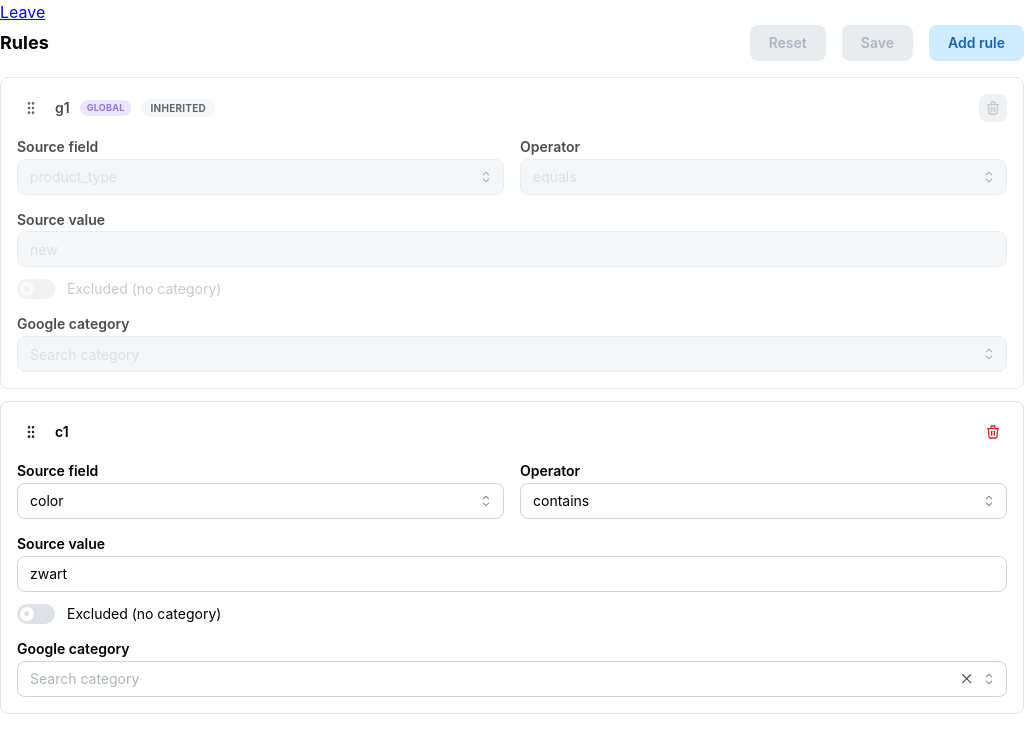
RulesTab › Dirty guard: Cancel keeps the draft and stays on the page
Expected: the text "c1" is shown, [55,422,69,442]
Click the button "Add rule". click: (976, 43)
box: [929,25,1023,61]
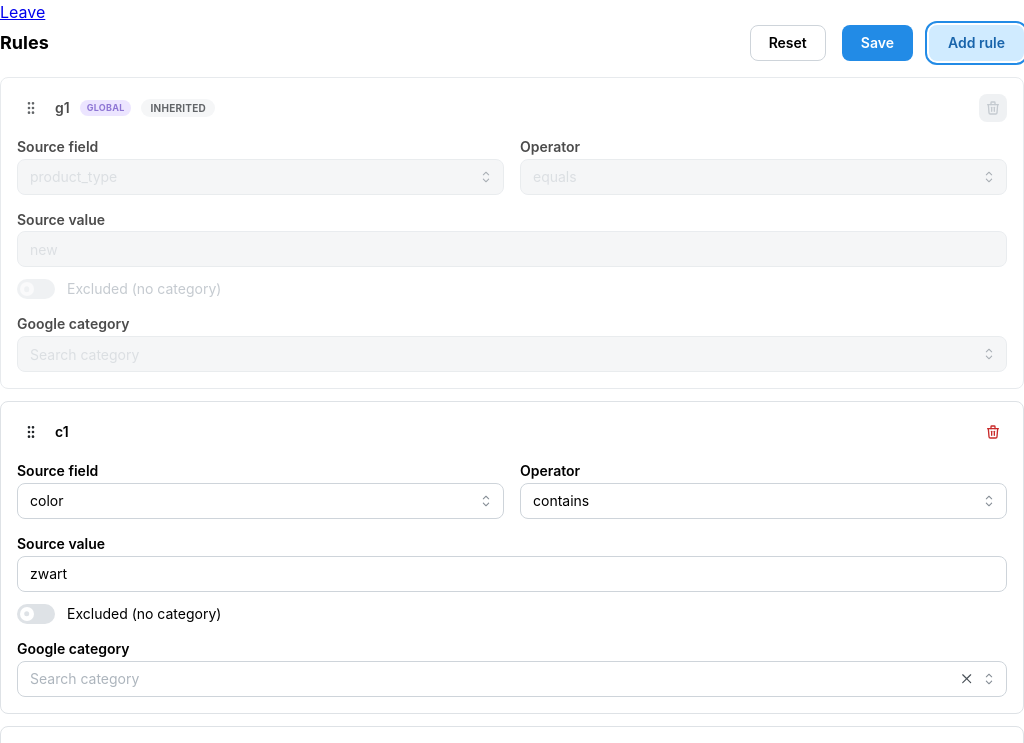
Click the link "Leave". click: (23, 12)
box: [0,2,45,22]
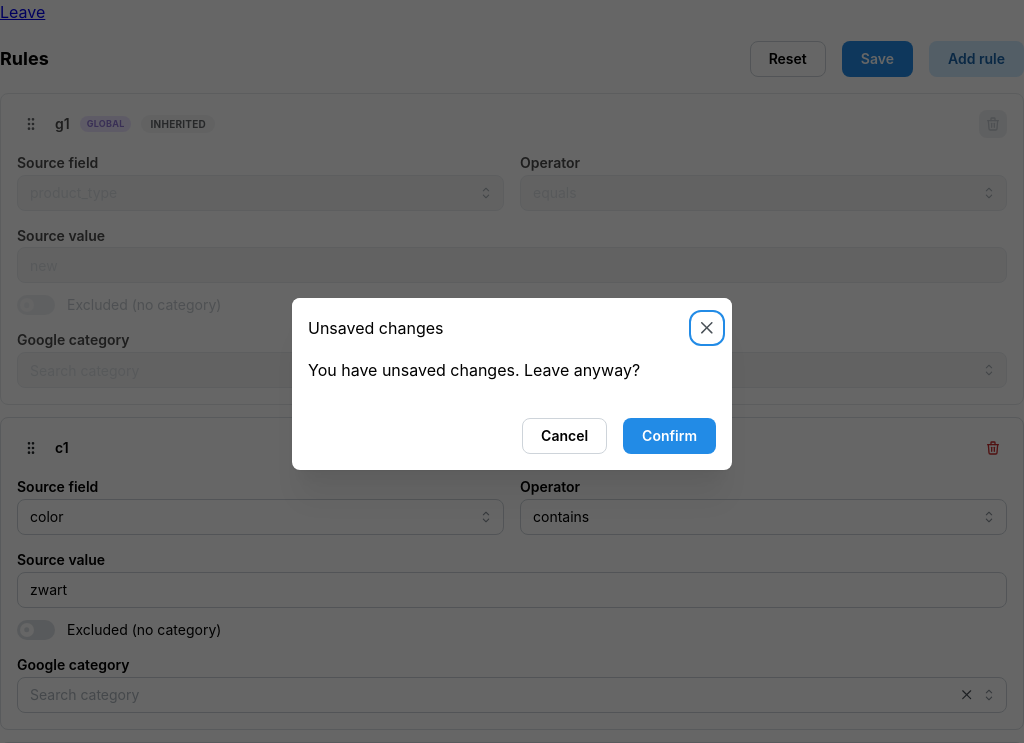
Expected: the heading "Unsaved changes" is shown, [308,320,444,336]
Click the button "Cancel". click: (565, 436)
box: [522,418,607,454]
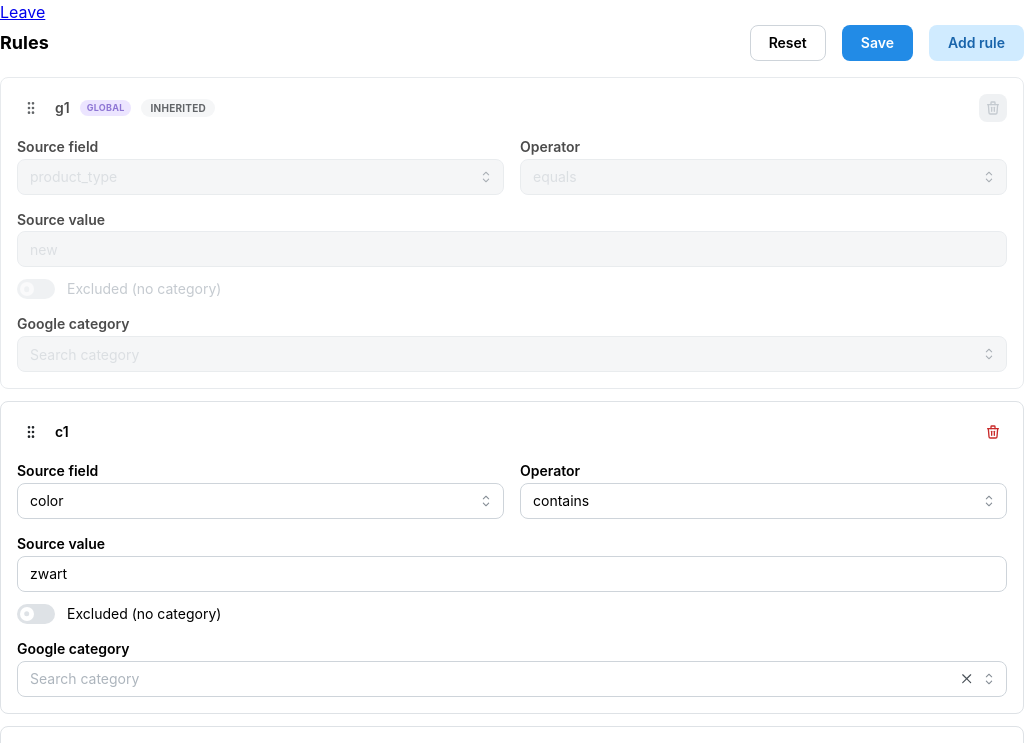
Expected: the text "c1" is shown, [55,422,69,442]
Expected: the button "Save" is enabled, [842,25,913,61]
Expected: the heading "Unsaved changes" is gone
